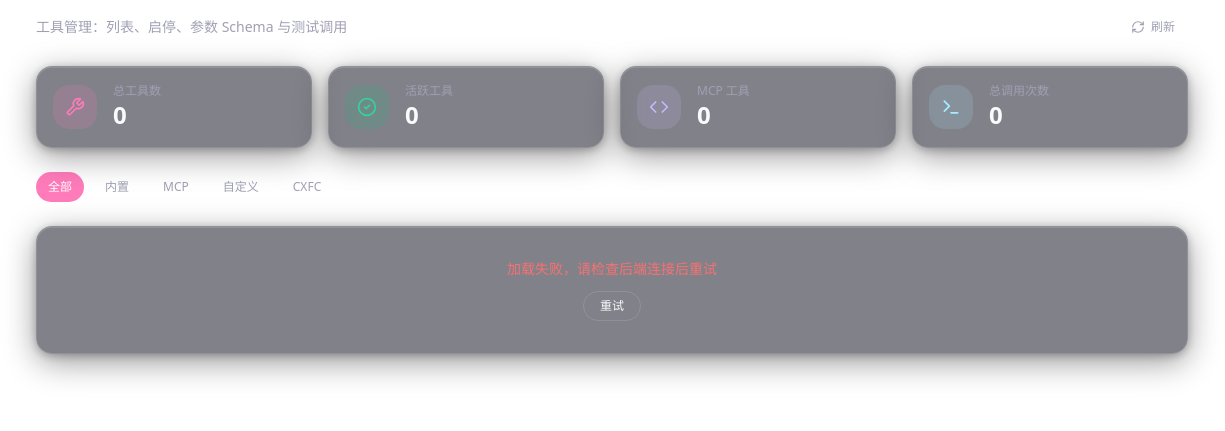
ToolsPage 工具页 › 加载失败显示错误态，点击重试重新拉取
This screenshot has width=1225, height=431.
expect the text "加载失败，请检查后端连接后重试" is shown: met, box [507,259,717,278]
Click the button "重试" at coordinates (612, 306), box [583,291,641,321]
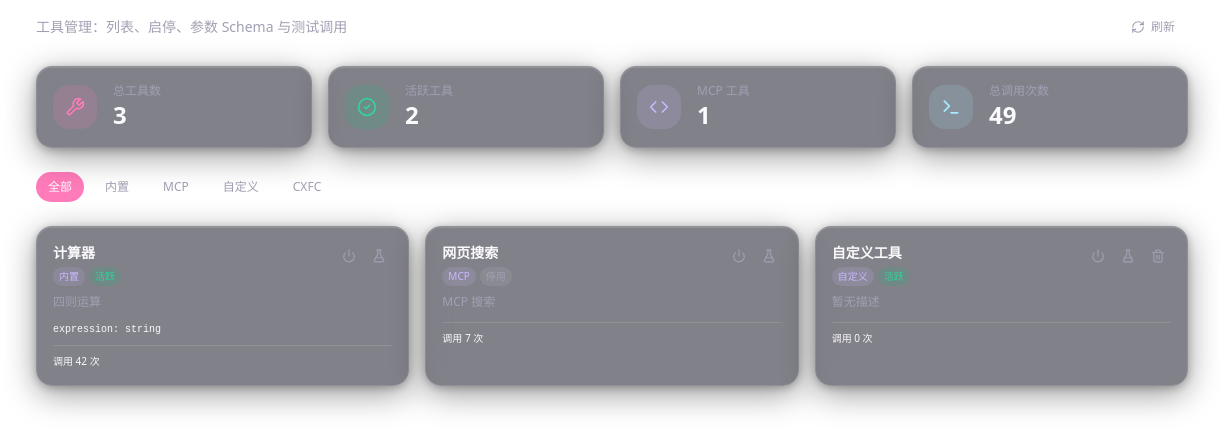
expect the text "计算器" is shown: met, box [53,243,95,262]
